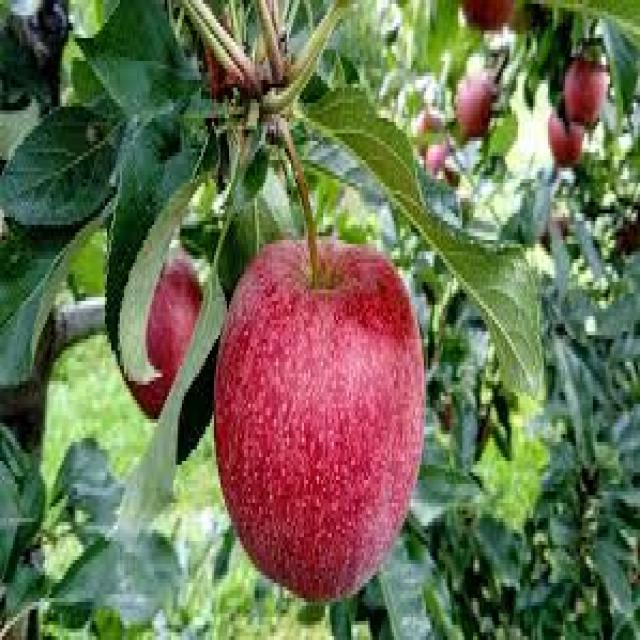apple: (212, 222, 430, 601)
